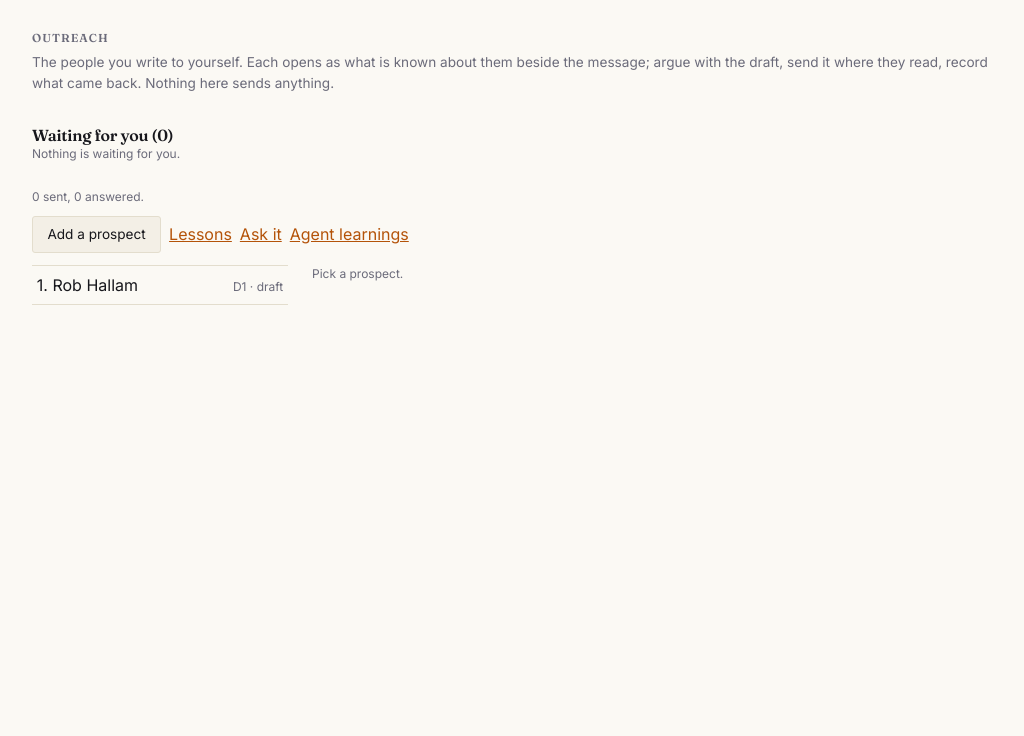
Test: the outreach workbench › lists the prospects and opens one with its evidence and message side by side
The image size is (1024, 736).
Step 1. Click the button "1. Rob Hallam D1 · draft" → coordinates (160, 285), box [32,266,288,304]
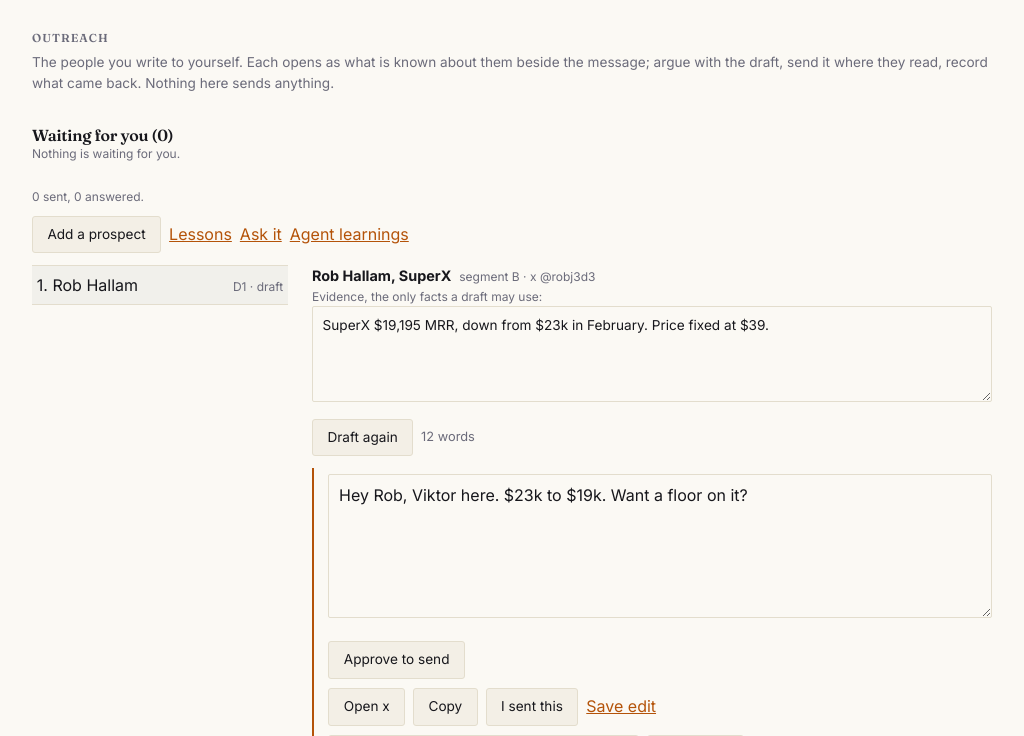
Expected: the text box "19,195 MRR" is shown, [312,306,992,402]
Expected: the text box named "The message you will send" holds "Hey Rob, Viktor here. $23k to $19k. Want a floor on it?", [328,474,992,618]
